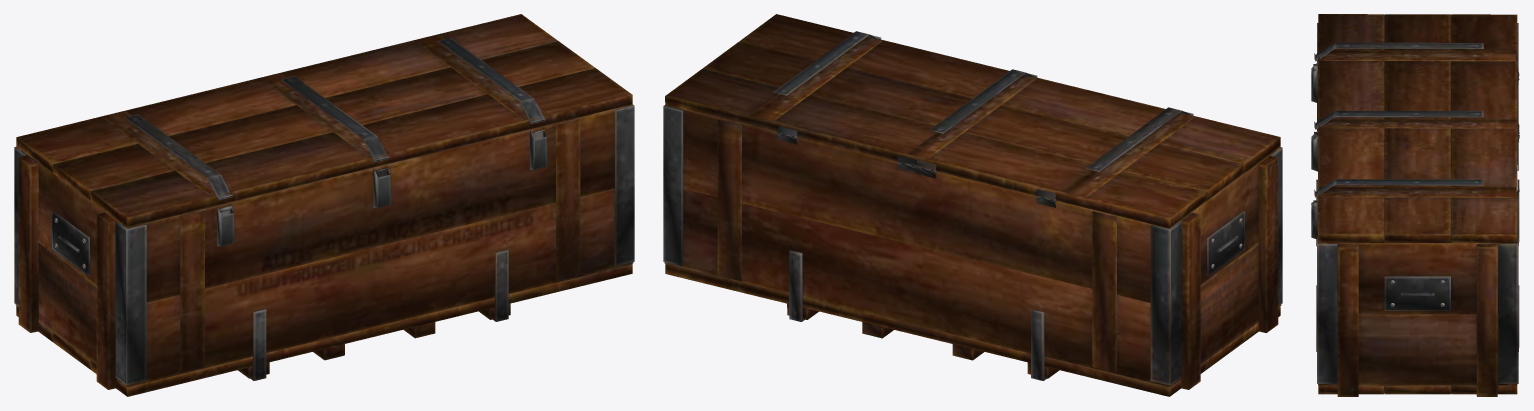
File: crate.glb
3 views of the same model, side by side, from view 1: azimuth 30°, elevation 25°; view 2: azimuth 150°, elevation 25°; view 3: azimuth 270°, elevation 25° (orthographic). The views are drawn at different scales.
Parts seen in each view (by area): view 1: wooden_military_crate; view 2: wooden_military_crate; view 3: wooden_military_crate.
Part boxes in pixels (left/top/right/bottom): wooden_military_crate: left=14, top=14, right=634, bottom=396; wooden_military_crate: left=663, top=14, right=1282, bottom=396; wooden_military_crate: left=1311, top=14, right=1519, bottom=396.
Size of the model in its own units: 1.24 by 0.4639 by 0.4801.
1 material, 1 textured.
